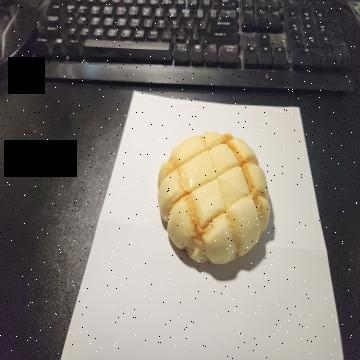melon_bread: (158, 132, 271, 267)
